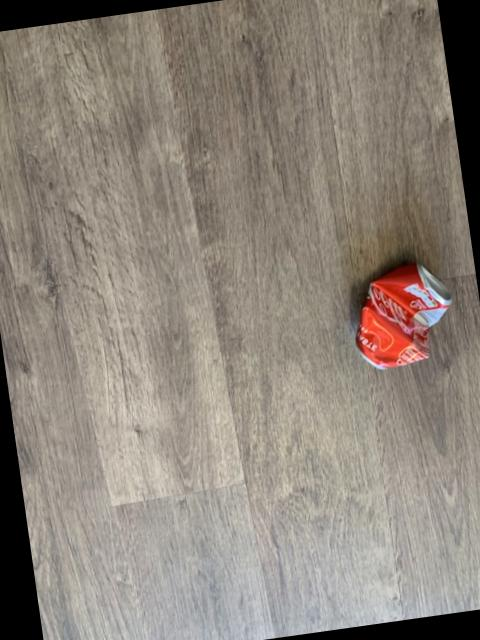metal: (357, 262, 451, 366)
